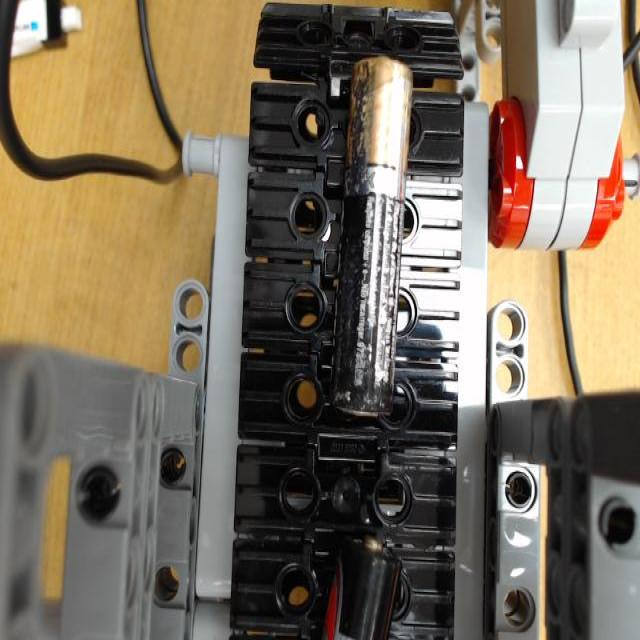AAA: (339, 57, 413, 414)
